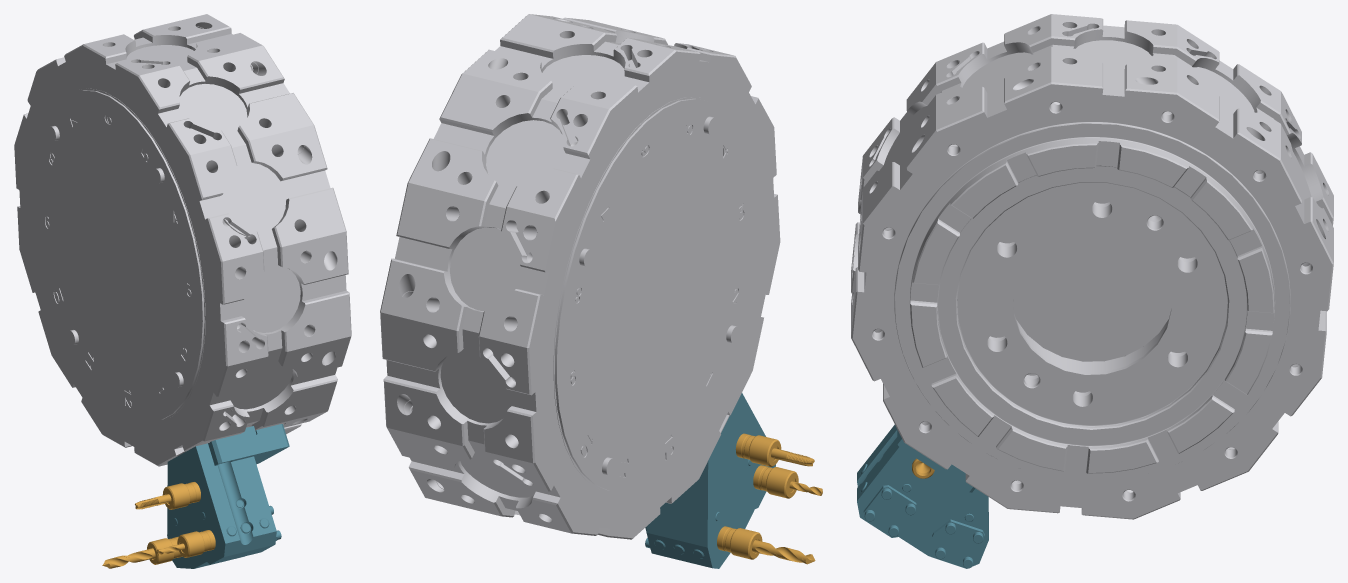
Rendered from turret-assembly-colored.obj.
3 views of the same model, side by side, from view 1: azimuth 30°, elevation 25°; view 2: azimuth 150°, elevation 25°; view 3: azimuth 270°, elevation 25° (orthographic). The views are drawn at different scales.
Visible parts, largest first — view 1: Body1, Body1:1, Body1:2, Body1:4, Body1:3; view 2: Body1, Body1:1, Body1:2, Body1:4, Body1:3; view 3: Body1, Body1:1.
Part boxes in pixels (x1,y1,x2,y2): Body1: (14,14,351,466); Body1:1: (167,424,289,568); Body1:2: (177,530,215,557); Body1:4: (162,482,200,509); Body1:3: (147,536,182,564); Body1: (380,14,780,539); Body1:1: (645,393,775,568); Body1:2: (753,465,798,498); Body1:4: (735,433,781,466); Body1:3: (717,526,762,559); Body1: (851,14,1333,519); Body1:1: (857,424,988,568).
Bounding box in the file's own units: 23.13 × 47.58 × 39.53.
